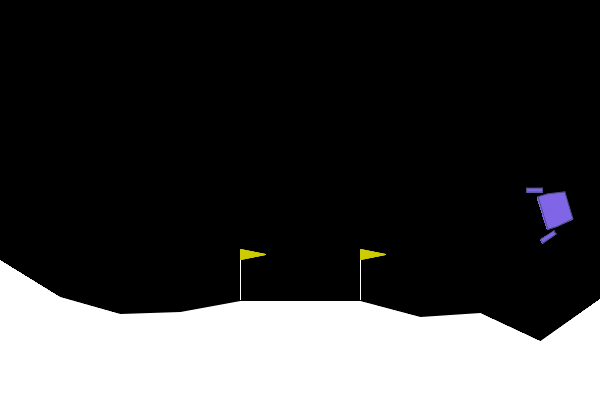lander: (523, 176, 579, 245)
